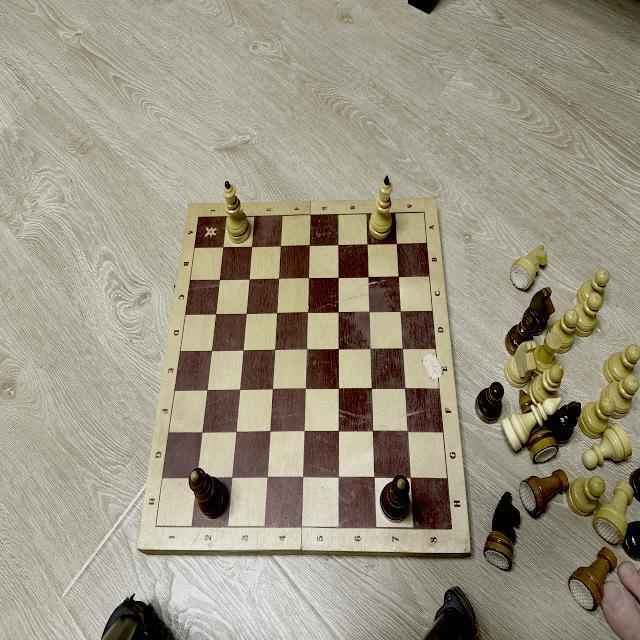chess-table-corners: (448, 524, 456, 535), (150, 522, 160, 530), (420, 208, 428, 216), (196, 213, 202, 221)
